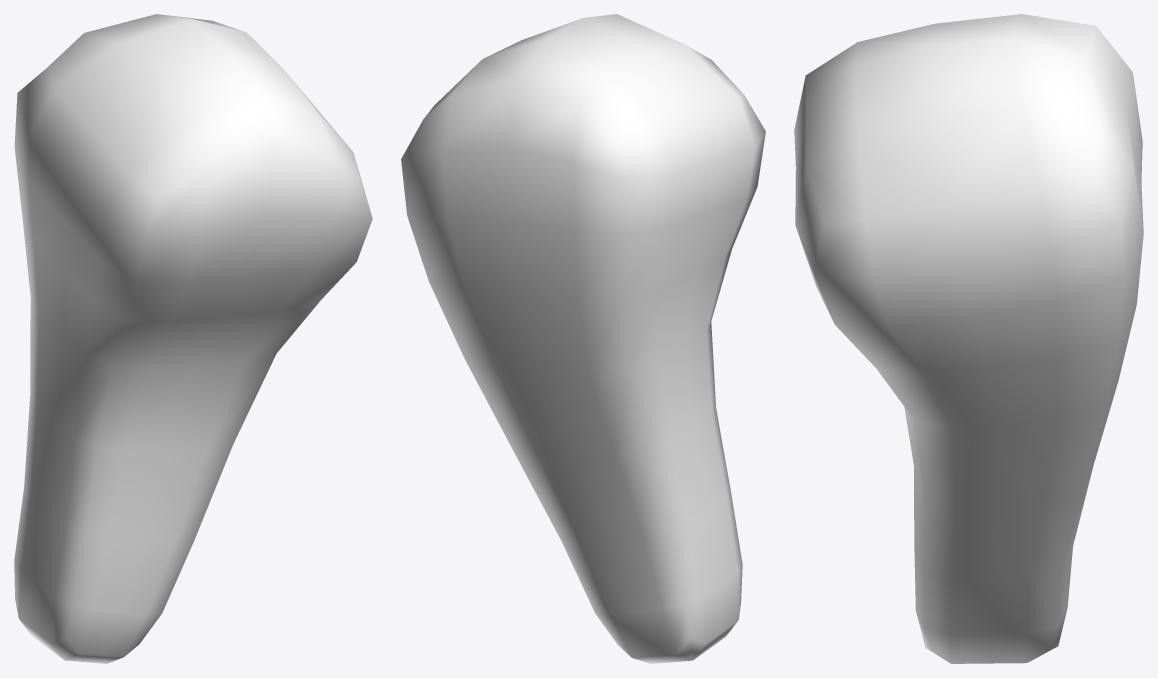
File: lhair.obj
3 views of the same model, side by side, from view 1: azimuth 30°, elevation 25°; view 2: azimuth 150°, elevation 25°; view 3: azimuth 270°, elevation 25° (orthographic). The views are drawn at different scales.
Parts seen in each view (by area): view 1: polySurface4 pasted__Geo_Head_Feather4 group; view 2: polySurface4 pasted__Geo_Head_Feather4 group; view 3: polySurface4 pasted__Geo_Head_Feather4 group.
Boxes of the visible parts, <box> form: polySurface4 pasted__Geo_Head_Feather4 group: <box>14,14,372,663</box>; polySurface4 pasted__Geo_Head_Feather4 group: <box>401,14,765,663</box>; polySurface4 pasted__Geo_Head_Feather4 group: <box>794,14,1143,663</box>.
Size of the model in its own units: 0.9532 by 1.94 by 0.8981.
Materials: 1 (1 with a texture image).
